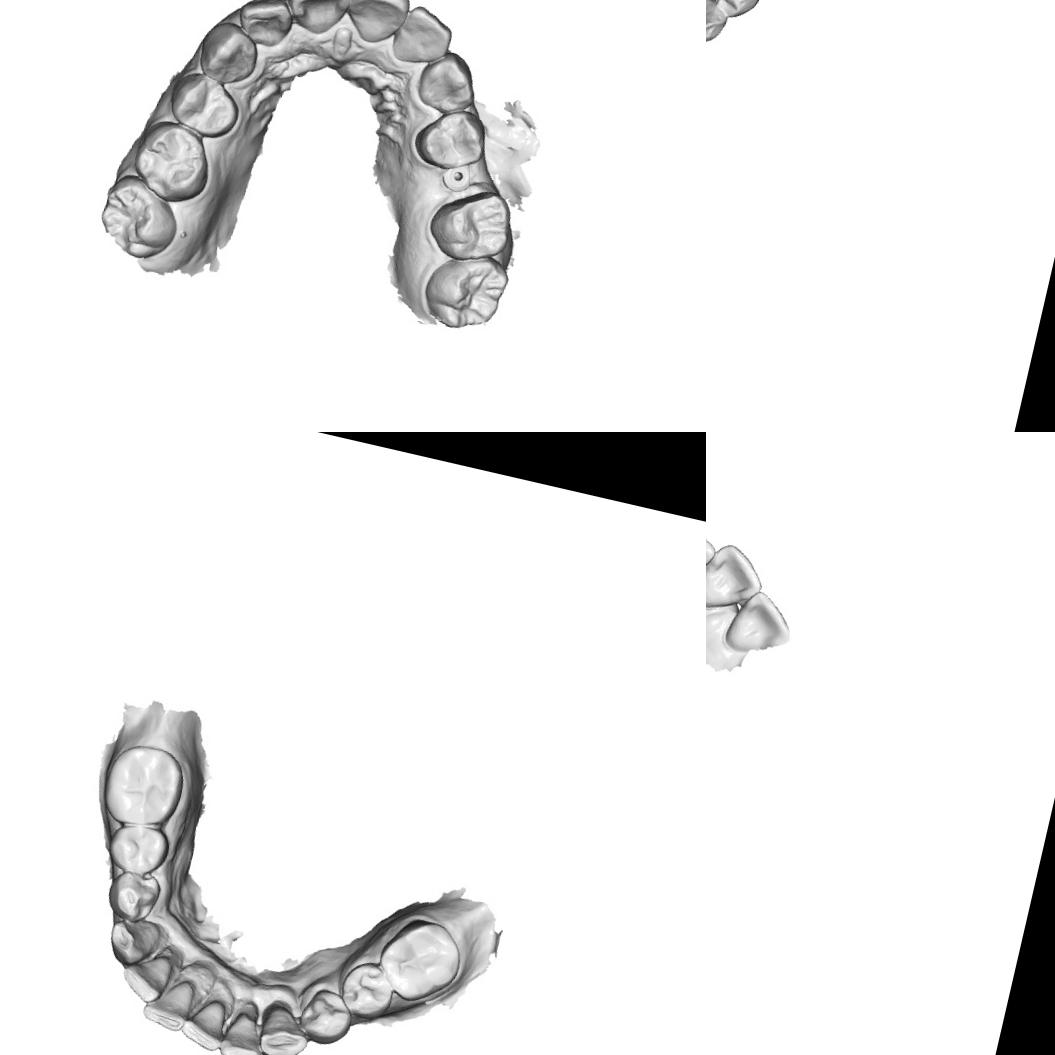canine: (188, 14, 266, 91), (410, 44, 486, 120), (102, 911, 167, 972), (257, 1003, 314, 1055), (706, 0, 732, 52)
implant: (438, 159, 479, 196)
incisor: (719, 584, 800, 664), (706, 536, 770, 621), (388, 0, 458, 72), (139, 975, 198, 1034), (280, 0, 358, 44), (339, 0, 411, 46), (176, 994, 232, 1053), (116, 950, 174, 1006), (230, 0, 295, 49), (217, 1007, 269, 1055), (706, 520, 721, 591)
molar: (371, 910, 471, 1010), (91, 168, 188, 264), (123, 114, 220, 210), (96, 737, 190, 834), (418, 246, 514, 339), (421, 180, 518, 270)
premolar: (160, 63, 246, 144), (410, 99, 492, 176), (104, 818, 174, 879), (337, 956, 398, 1022), (103, 869, 166, 926), (296, 986, 353, 1048), (706, 0, 767, 23)
